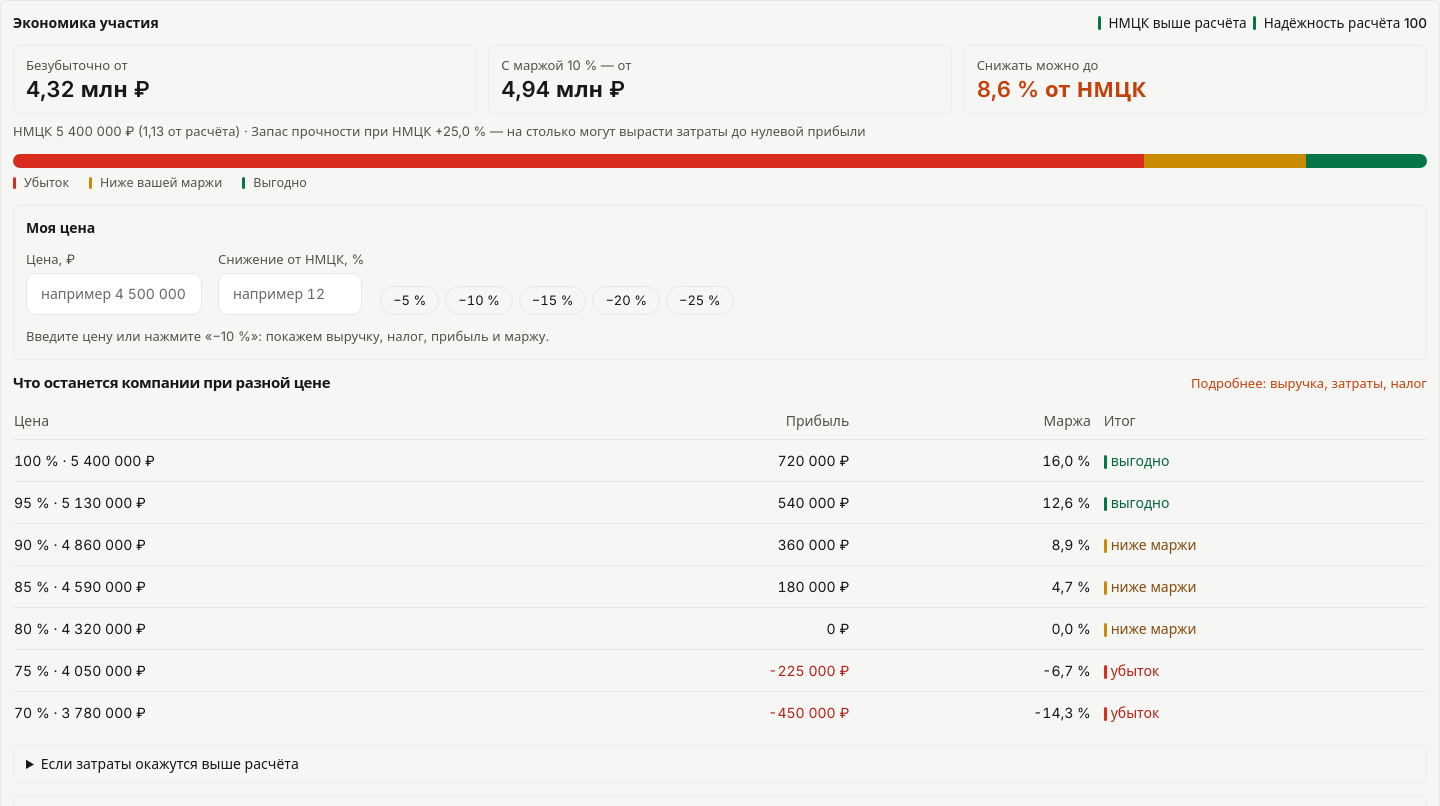
Test: «Моя цена» › −10 %: прибыль есть, но маржа ниже цели — «ниже вашей цели»
Click the button "−10 %": (479, 300) [445,286,513,315]
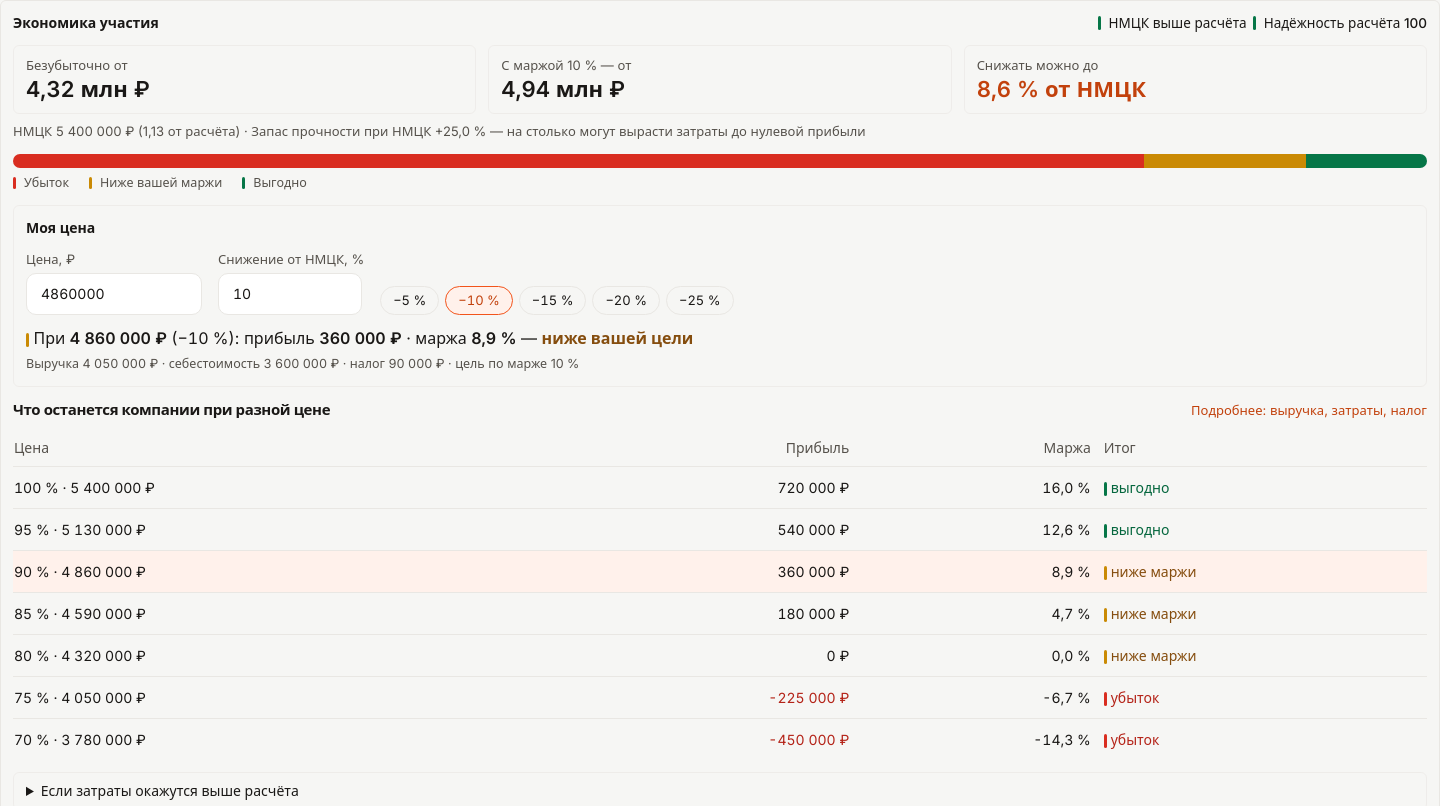
Result: the text with test id "my-price-verdict" reads "ниже вашей цели" at [542,328,693,348]
Result: the element with test id "my-price-details" shows "цель по марже 10 %" at [26,356,579,371]
